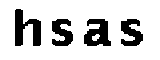a: (81, 18, 113, 49)
h: (11, 4, 44, 52)
s: (118, 16, 146, 50), (50, 17, 75, 49)
